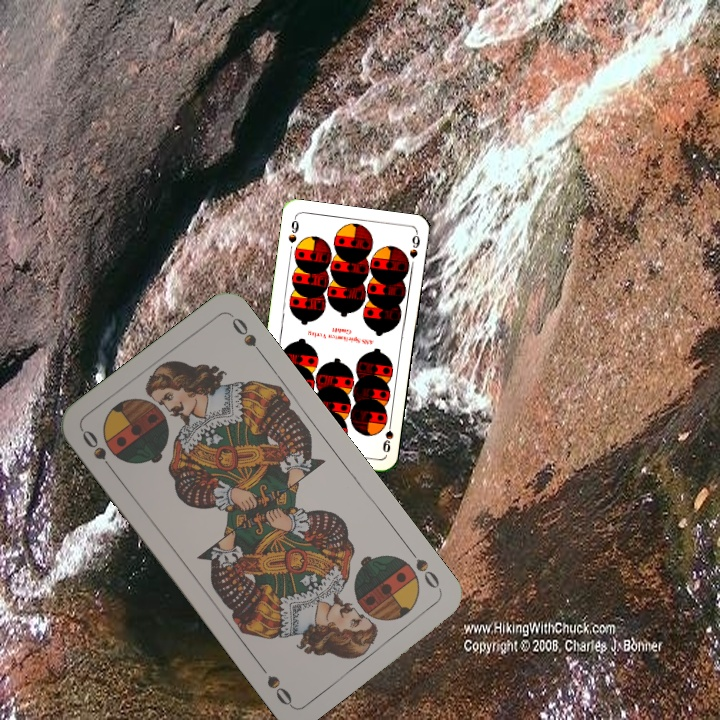S9: (378, 416, 396, 455), (284, 213, 302, 246)
SO: (77, 425, 119, 477), (403, 543, 445, 594)
